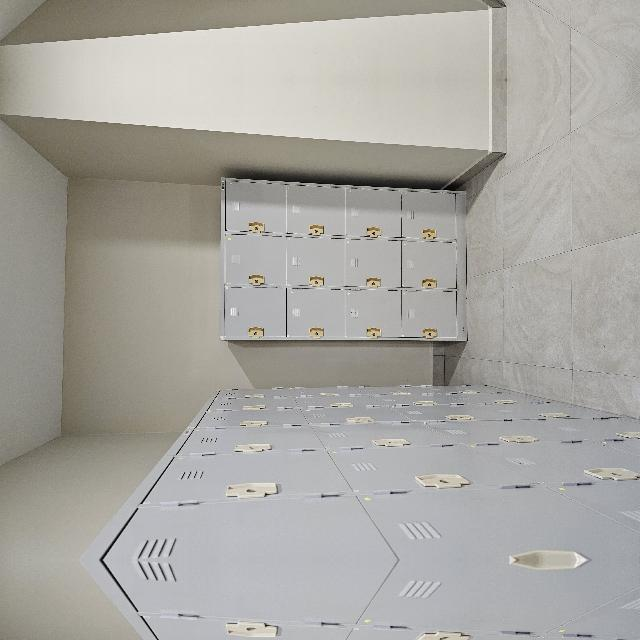obstacle: (0, 166, 176, 640), (0, 400, 176, 640), (216, 297, 384, 548), (215, 571, 384, 640)
